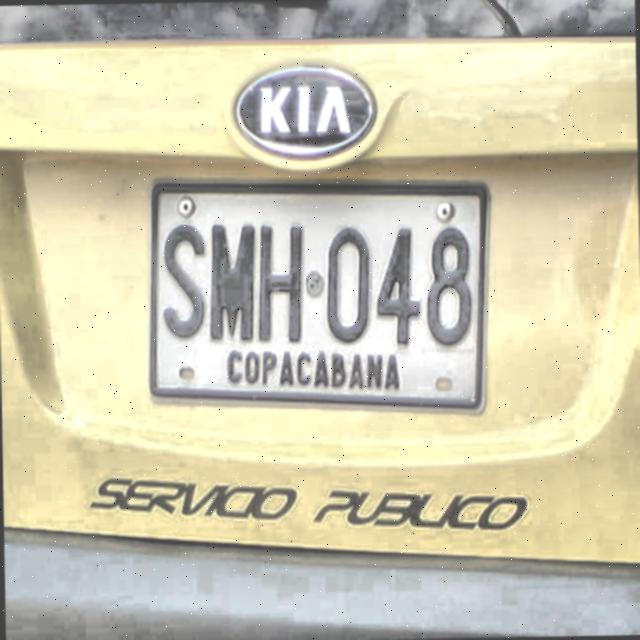plate: (154, 187, 482, 405)
